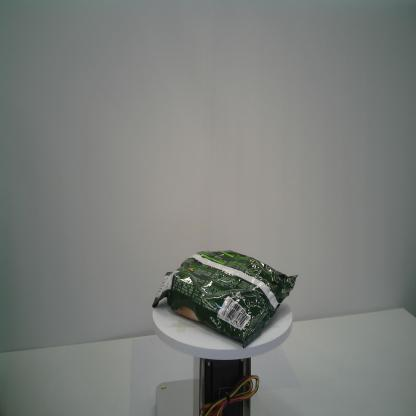Instant Noodles: (150, 247, 300, 350)
